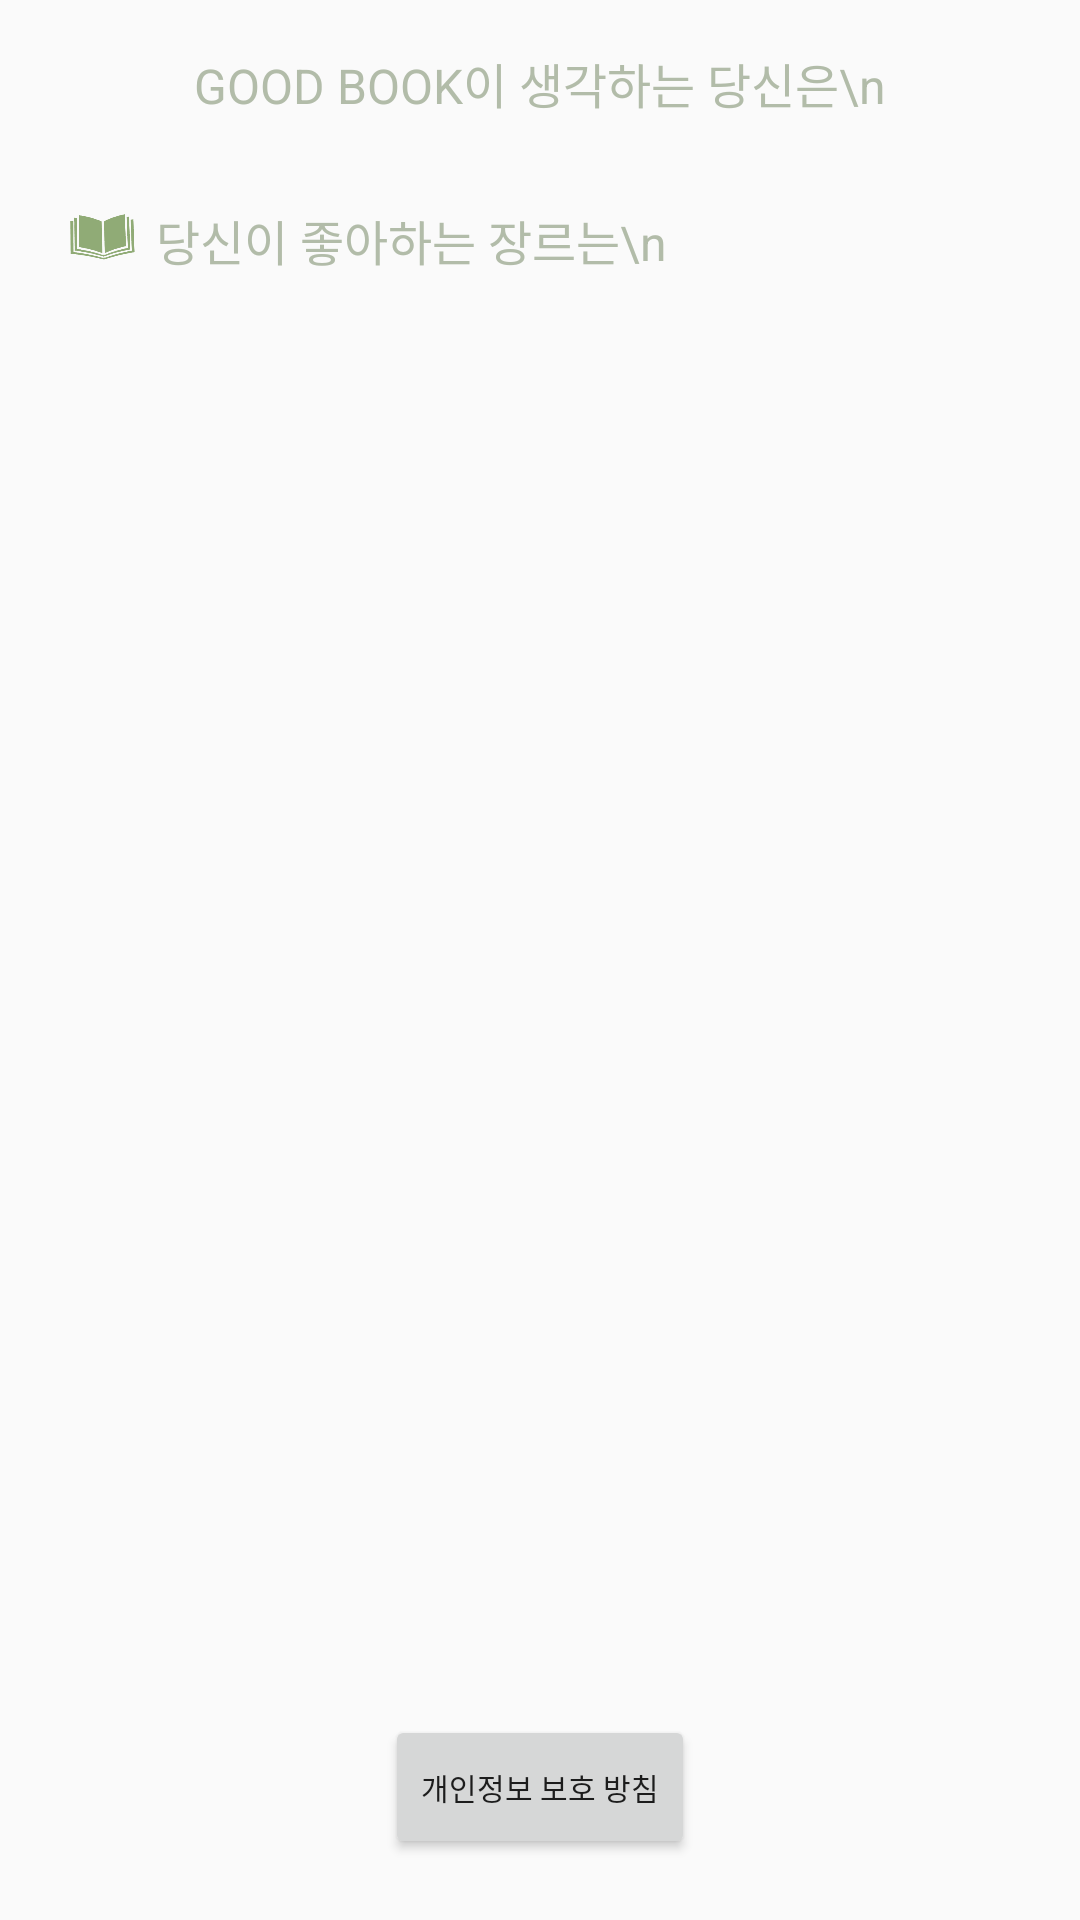

Point at icon controls on the screen. Image size 1080 x 1920, points as [x,y].
intro book: [102,237]
